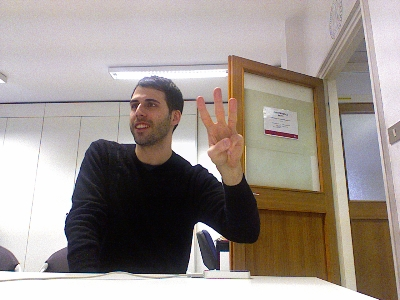三分: (195, 86, 245, 168)
